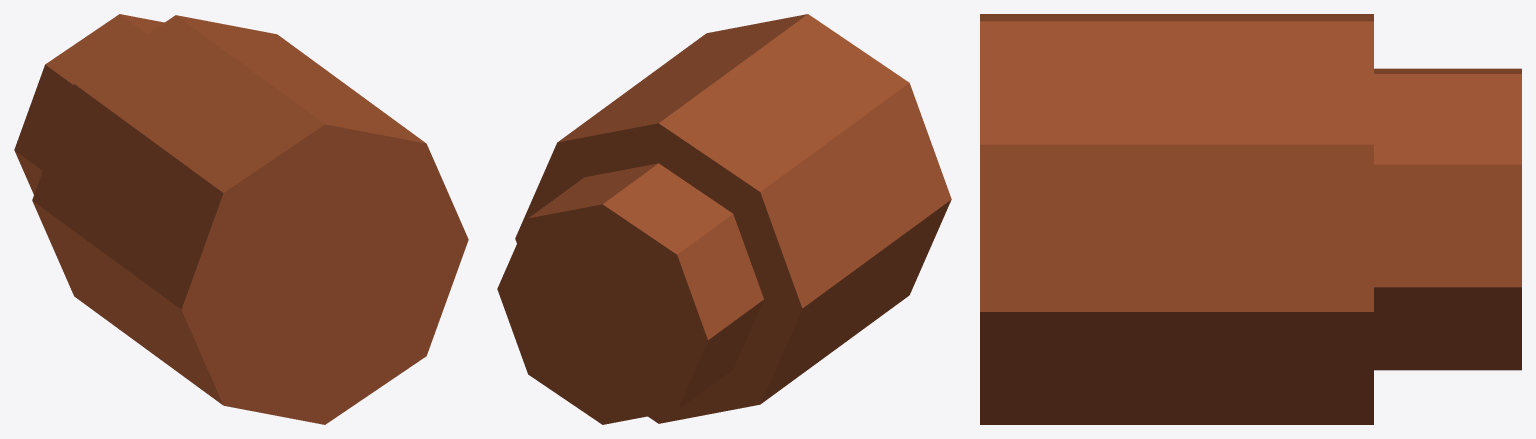
The model's file is Prop_Tribal_Pinion_Timber_01.FBX.
3 renders of one model, left to right at view 1: azimuth 30°, elevation 25°; view 2: azimuth 150°, elevation 25°; view 3: azimuth 270°, elevation 25°, orthographic. The views are drawn at different scales.
Parts seen in each view (by area): view 1: Prop_Tribal_Pinion_Timber_01; view 2: Prop_Tribal_Pinion_Timber_01; view 3: Prop_Tribal_Pinion_Timber_01.
Part boxes in pixels (left/top/right/bottom): Prop_Tribal_Pinion_Timber_01: left=14, top=14, right=468, bottom=424; Prop_Tribal_Pinion_Timber_01: left=497, top=14, right=951, bottom=424; Prop_Tribal_Pinion_Timber_01: left=980, top=14, right=1521, bottom=424.
Bounding box in the file's own units: 883 × 883 × 1094.
